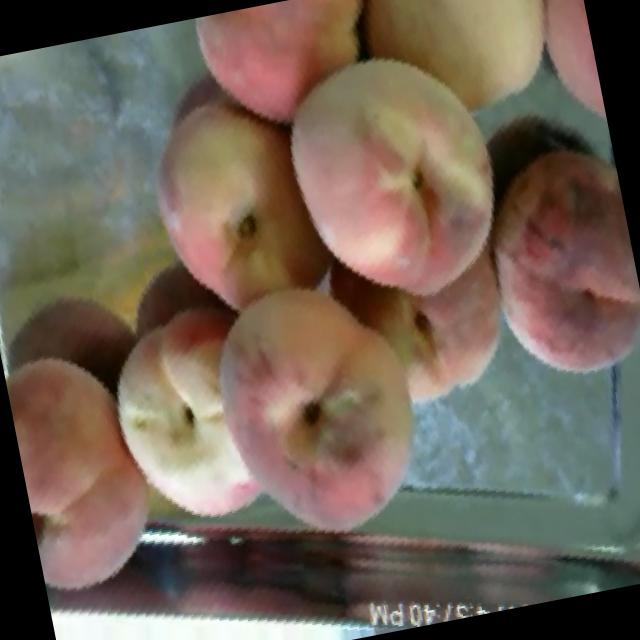Fruit: (156, 234, 476, 586), (242, 6, 554, 346), (0, 312, 208, 623), (130, 71, 357, 344), (440, 108, 640, 417), (345, 0, 607, 167), (183, 0, 406, 147), (514, 0, 613, 161)
